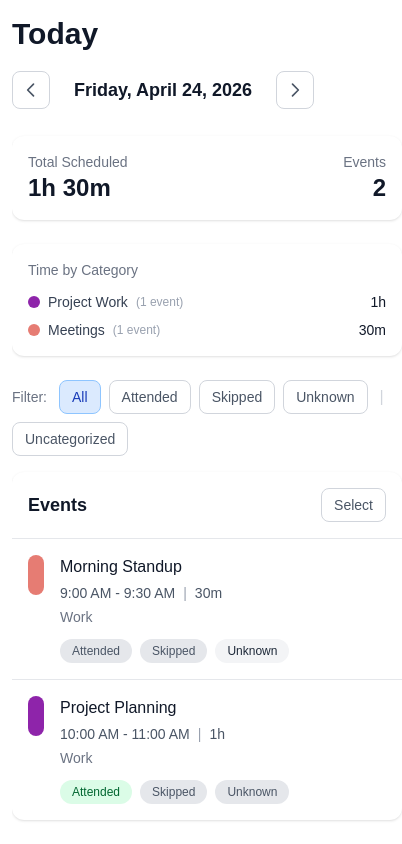
Test: DayView › selection mode › enters selection mode when Select button is clicked
Click the button "Select". click: (354, 505)
box: x1=321 y1=488 x2=386 y2=522
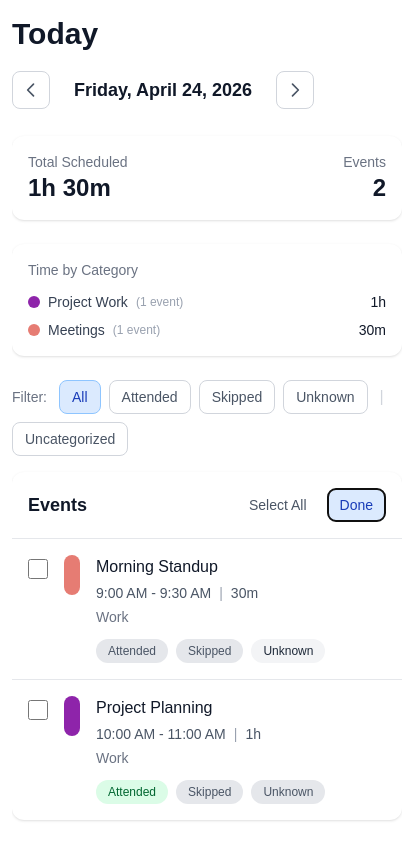
Result: the button "Done" is shown at x1=326 y1=488 x2=386 y2=522
